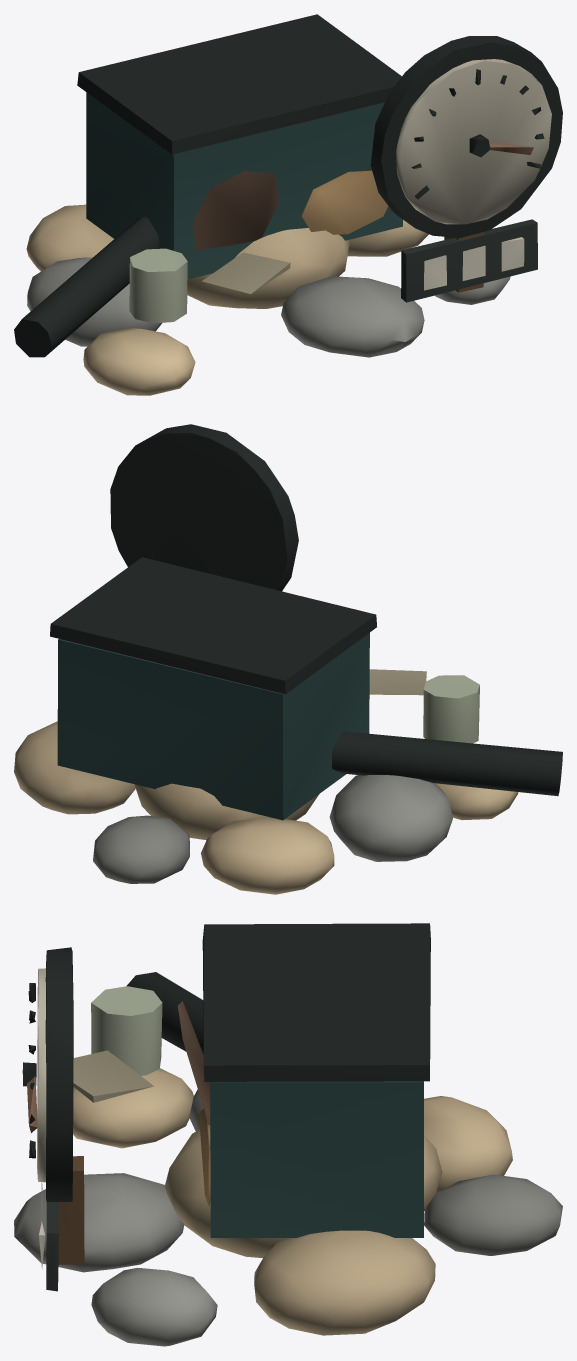
The model's file is storm_station_c_lod2.glb.
3 renders of one model, top to bottom at view 1: azimuth 30°, elevation 25°; view 2: azimuth 150°, elevation 25°; view 3: azimuth 270°, elevation 25°, orthographic. The views are drawn at different scales.
Parts seen in each view (by area): view 1: Surface.001; view 2: Surface.001; view 3: Surface.001.
Boxes of the visible parts, x1,y1,x2,y2 form: Surface.001: [14, 14, 562, 395]; Surface.001: [14, 424, 562, 894]; Surface.001: [14, 923, 562, 1346].
Bounding box in the file's own units: 5.17 × 2.91 × 4.05.
